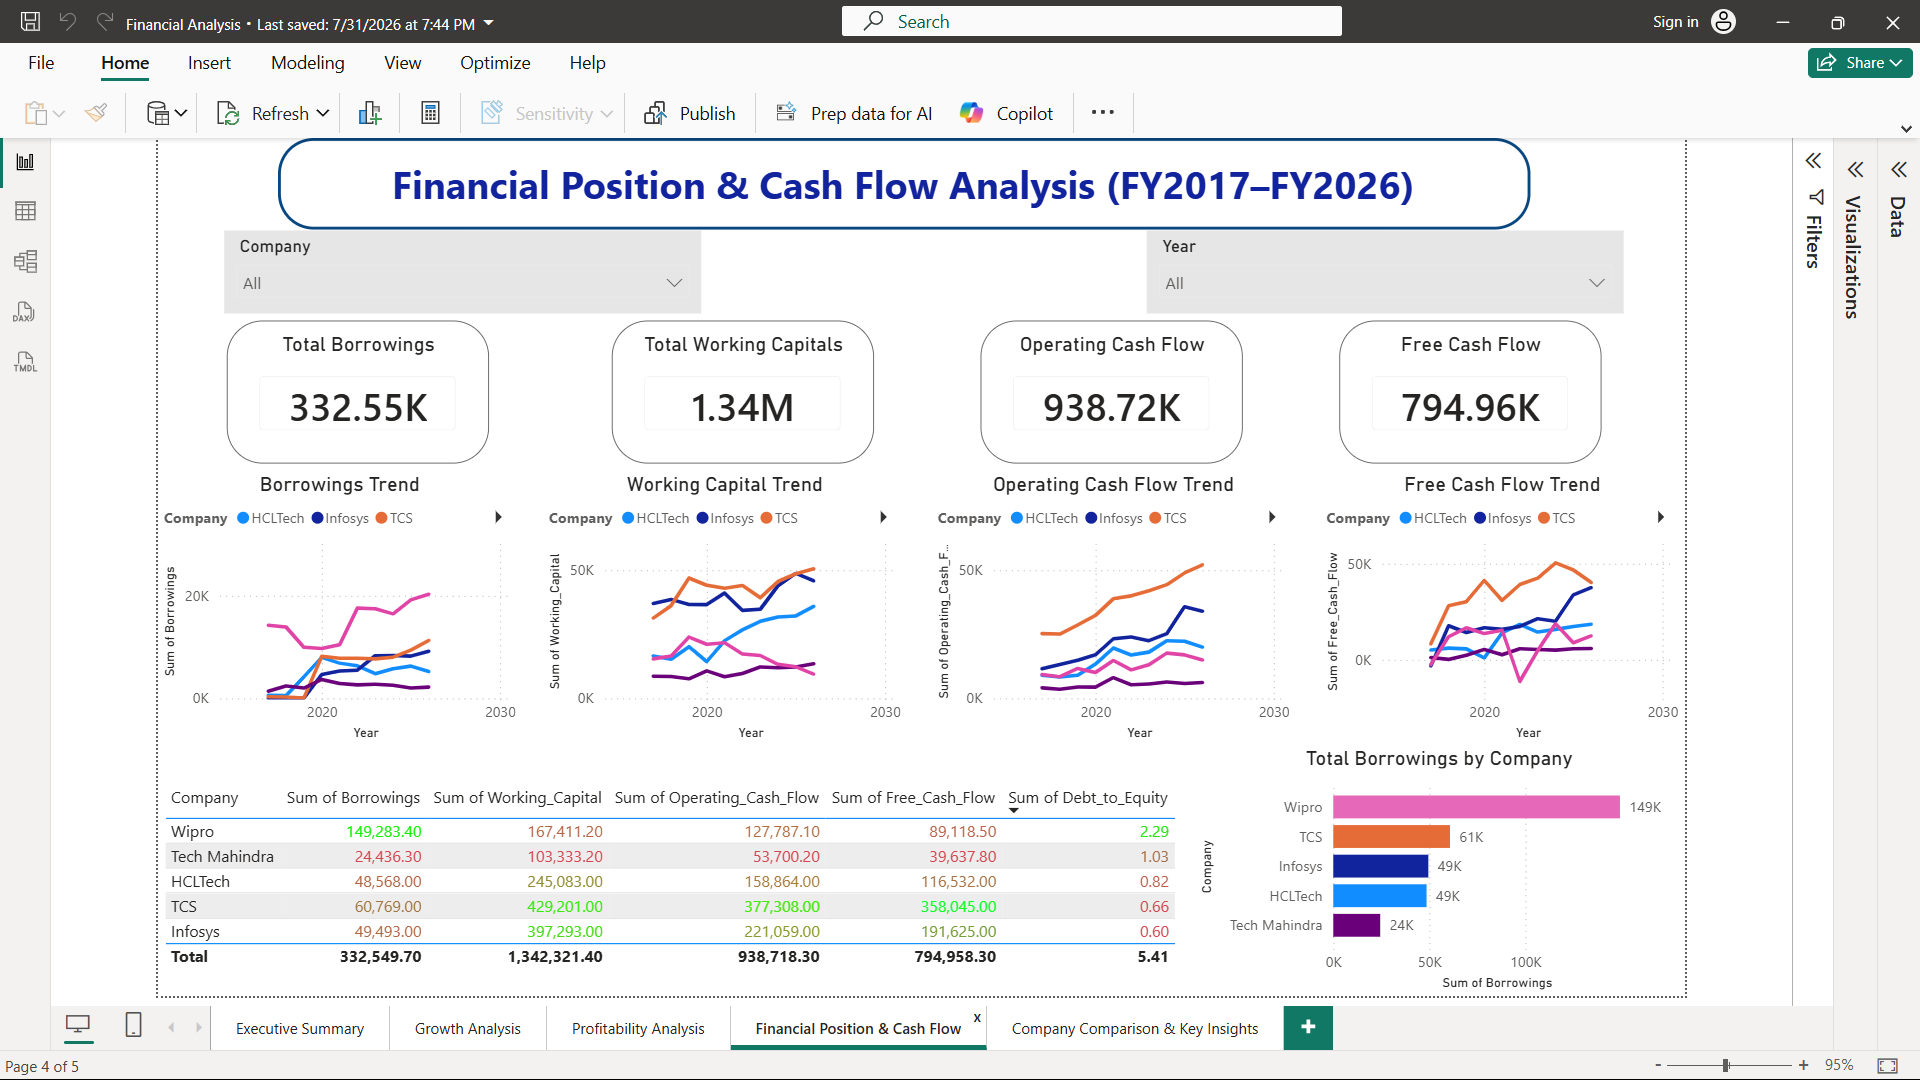

What the dashboard file says about the page in this screenshot:
{"tool":"powerbi","page":{"name":"Financial Position & Cash Flow","canvas":[1280,720],"ordinal":3},"visuals":[{"type":"textbox","box":[101.2,0,1050,76.7],"z":0},{"type":"cardVisual","title":"Total Borrowings","fields":{"Data":["Sum(financial_kpis.Borrowings)"]},"box":[58.1,153.5,219.8,119.8],"z":1000},{"type":"cardVisual","title":"Operating Cash Flow","fields":{"Data":["Sum(financial_kpis.Operating_Cash_Flow)"]},"box":[689.5,153.5,219.8,119.8],"z":2000},{"type":"cardVisual","title":"Total Working Capitals","fields":{"Data":["Sum(financial_kpis.Working_Capital)"]},"box":[380.2,153.5,219.8,119.8],"z":3000},{"type":"cardVisual","title":"Free Cash Flow","fields":{"Data":["Sum(financial_kpis.Free_Cash_Flow)"]},"box":[990.7,153.5,219.8,119.8],"z":4000},{"type":"lineChart","title":"Borrowings Trend","fields":{"Category":["financial_kpis.Year"],"Y":["Sum(financial_kpis.Borrowings)"],"Series":["financial_kpis.Company"]},"box":[0,280,305,230],"z":5000},{"type":"lineChart","title":"Operating Cash Flow Trend","fields":{"Y":["Sum(financial_kpis.Operating_Cash_Flow)"],"Category":["financial_kpis.Year"],"Series":["financial_kpis.Company"]},"box":[648.8,280,305,230],"z":6000},{"type":"lineChart","title":"Working Capital Trend","fields":{"Y":["Sum(financial_kpis.Working_Capital)"],"Category":["financial_kpis.Year"],"Series":["financial_kpis.Company"]},"box":[322.5,280,305,230],"z":7000},{"type":"lineChart","title":"Free Cash Flow Trend","fields":{"Y":["Sum(financial_kpis.Free_Cash_Flow)"],"Series":["financial_kpis.Company"],"Category":["financial_kpis.Year"]},"box":[975,280,305,230],"z":8000},{"type":"tableEx","fields":{"Values":["financial_kpis.Company","Sum(financial_kpis.Borrowings)","Sum(financial_kpis.Working_Capital)","Sum(financial_kpis.Operating_Cash_Flow)","Sum(financial_kpis.Free_Cash_Flow)","Sum(financial_kpis.Debt_to_Equity)"]},"box":[0,536.2,868.8,183.8],"z":9000},{"type":"clusteredBarChart","title":"Total Borrowings by Company","fields":{"Category":["financial_kpis.Company"],"Y":["Sum(financial_kpis.Borrowings)"]},"box":[868.8,510,411.2,210],"z":10000},{"type":"slicer","fields":{"Values":["financial_kpis.Company"]},"box":[55.8,77.9,400,69.8],"z":11000},{"type":"slicer","fields":{"Values":["financial_kpis.Year"]},"box":[829.1,77.9,400,69.8],"z":12000}]}

Visuals, with their boxes on the page's 1280x720 design canvas (x1, y1, x2, y2). These are canvas units, not pixel positions in the 1920x1080 screenshot, which may show the page scaled, cropped or inside an application window:
textbox: 101/0/1151/77
"Total Borrowings" cardVisual: 58/154/278/273
"Operating Cash Flow" cardVisual: 690/154/909/273
"Total Working Capitals" cardVisual: 380/154/600/273
"Free Cash Flow" cardVisual: 991/154/1210/273
"Borrowings Trend" lineChart: 0/280/305/510
"Operating Cash Flow Trend" lineChart: 649/280/954/510
"Working Capital Trend" lineChart: 322/280/628/510
"Free Cash Flow Trend" lineChart: 975/280/1280/510
tableEx - financial_kpis.Company x Sum(financial_kpis.Borrowings): 0/536/869/720
"Total Borrowings by Company" clusteredBarChart: 869/510/1280/720
slicer - financial_kpis.Company: 56/78/456/148
slicer - financial_kpis.Year: 829/78/1229/148
